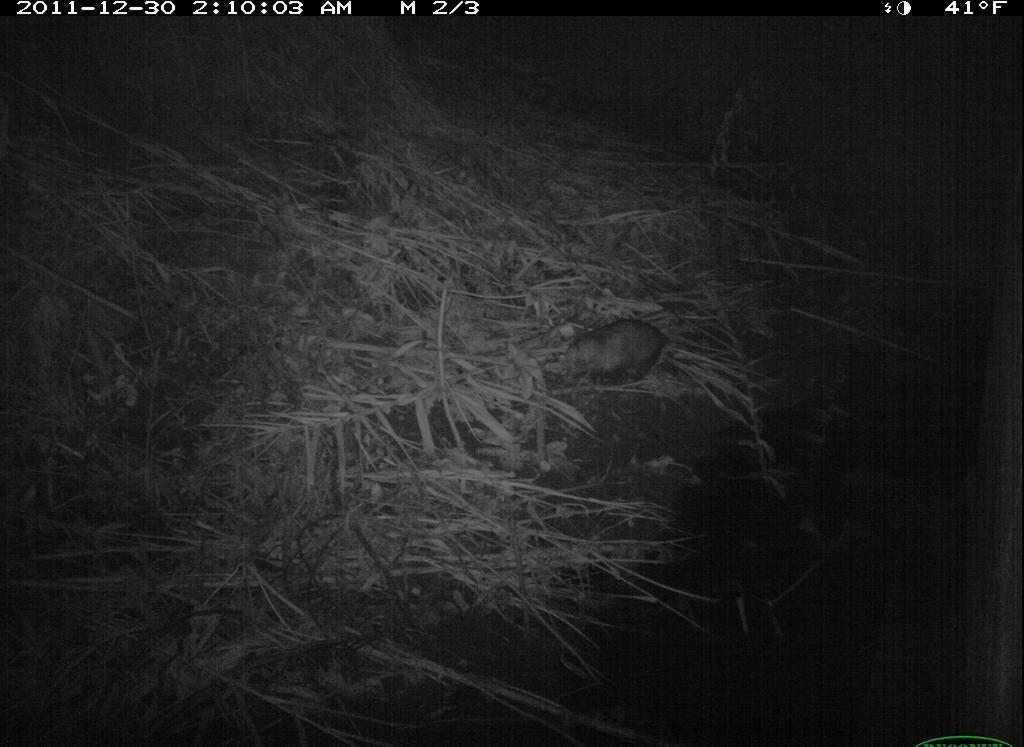opossum: (561, 309, 676, 401)
